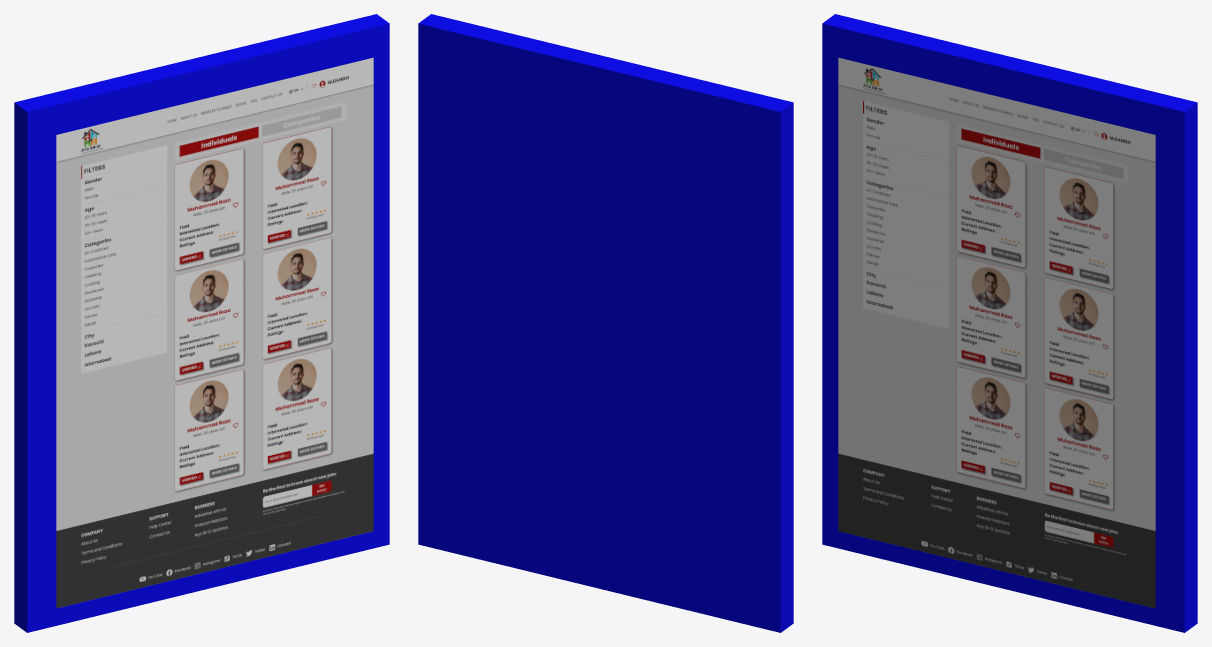
3 views of the same model, side by side, from view 1: azimuth 30°, elevation 25°; view 2: azimuth 150°, elevation 25°; view 3: azimuth 330°, elevation 25° (orthographic).
Parts seen in each view (by area): view 1: PhotoPlane, PhotoBorder; view 2: PhotoBorder; view 3: PhotoPlane, PhotoBorder.
Part boxes in pixels (<box>): PhotoPlane: <box>56,57,373,608</box>; PhotoBorder: <box>14,14,389,632</box>; PhotoBorder: <box>418,14,793,632</box>; PhotoPlane: <box>838,57,1155,608</box>; PhotoBorder: <box>822,14,1197,632</box>.
Size of the model in its own units: 8.01 by 11 by 0.75.
2 materials, 1 textured.
